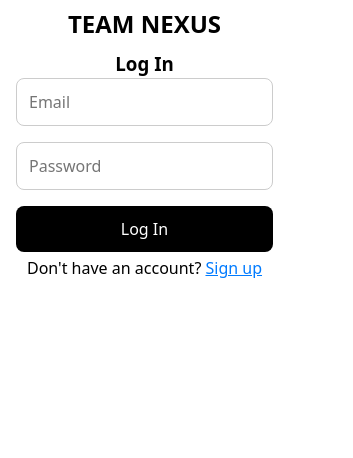
Scenario: Dashboard Component › switches to sign up form when sign up link is clicked
Click the text "Sign up": (234, 268) [206,257,262,279]
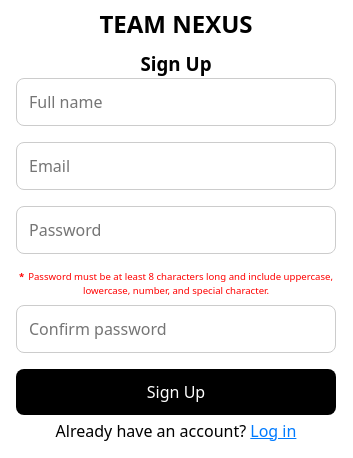
Result: the heading "Sign Up" is shown at [140,51,212,76]
Result: the field with placeholder "Full name" is shown at [16,78,336,126]
Result: the password field with placeholder "Confirm password" is shown at [16,305,336,353]
